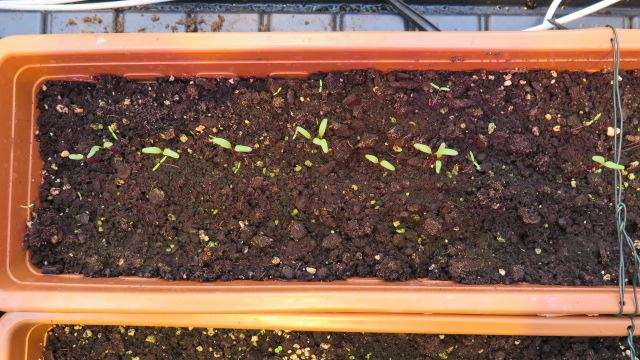crop: (358, 153, 395, 171)
weed: (577, 110, 605, 127), (424, 80, 454, 92), (102, 123, 119, 141), (314, 76, 325, 93), (267, 85, 282, 95)
